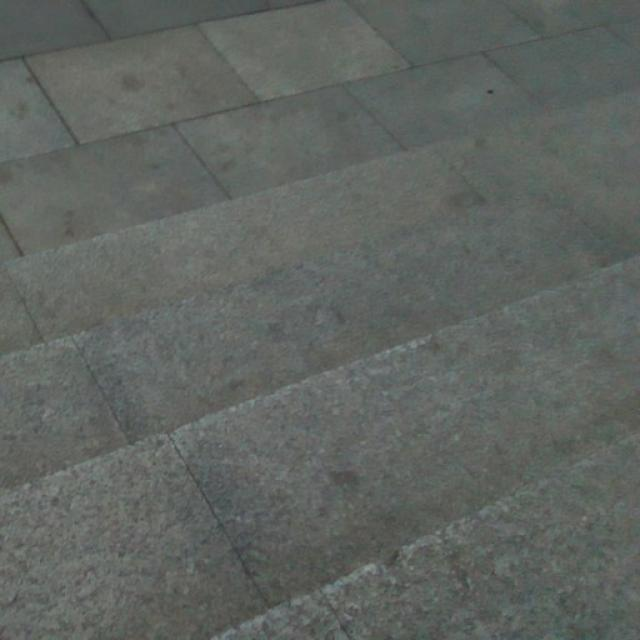stair: (18, 172, 640, 595)
